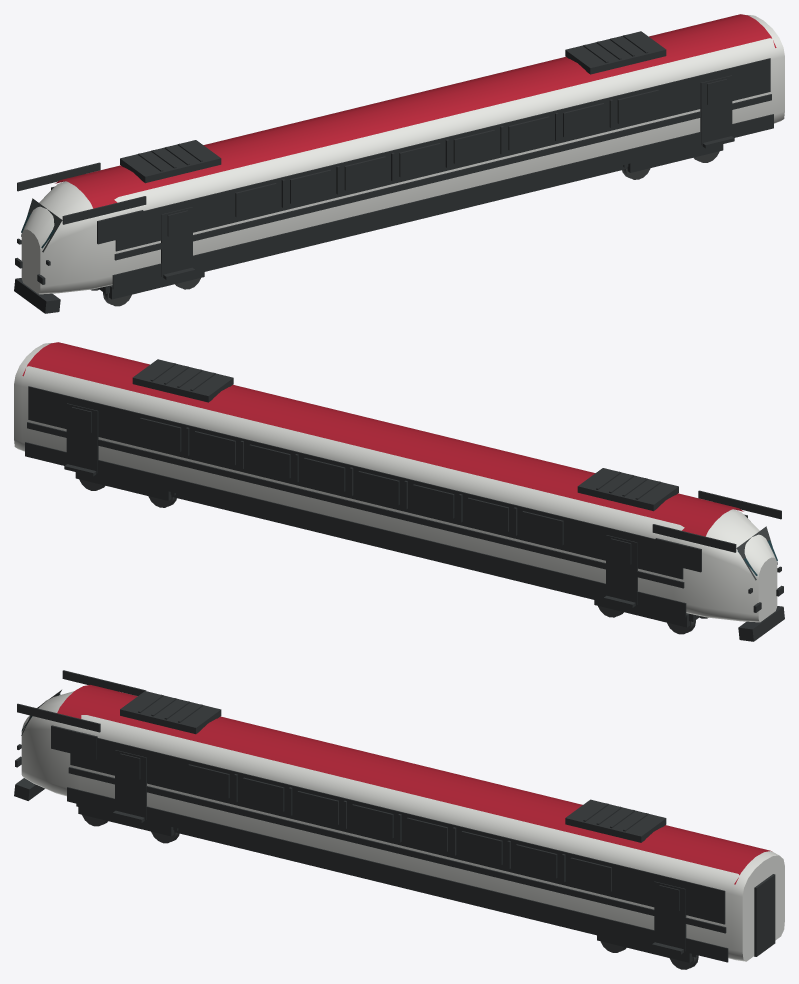
Rendered from railjet-classic-driving-trailer.glb.
3 renders of one model, top to bottom at view 1: azimuth 30°, elevation 25°; view 2: azimuth 150°, elevation 25°; view 3: azimuth 330°, elevation 25°, orthographic.
Visible parts, largest first — view 1: driving_trailer_lofted_body, driving_trailer_red_roof, driving_trailer_window_band_-1, driving_trailer_lower_skirt_-1, driving_trailer_red_belt_-1, driving_trailer_hvac_1, driving_trailer_hvac_0, driving_trailer_underframe_spine, driving_trailer_door_-1_1, driving_trailer_door_-1_0, driving_trailer_side_cab_window_-1, driving_trailer_window_-1_4 (+12 smaller); view 2: driving_trailer_lofted_body, driving_trailer_red_roof, driving_trailer_window_band_1, driving_trailer_lower_skirt_1, driving_trailer_red_belt_1, driving_trailer_hvac_1, driving_trailer_hvac_0, driving_trailer_underframe_spine, driving_trailer_door_1_1, driving_trailer_door_1_0, driving_trailer_bogie_a, driving_trailer_bogie_b (+12 smaller); view 3: driving_trailer_lofted_body, driving_trailer_red_roof, driving_trailer_window_band_-1, driving_trailer_lower_skirt_-1, driving_trailer_red_belt_-1, driving_trailer_hvac_1, driving_trailer_hvac_0, driving_trailer_underframe_spine, driving_trailer_door_-1_1, gangway_0.003, driving_trailer_door_-1_0, driving_trailer_side_cab_window_-1 (+12 smaller).
Part boxes in pixels (<box>): driving_trailer_lofted_body: <box>21,15,784,294</box>; driving_trailer_red_roof: <box>55,14,776,208</box>; driving_trailer_window_band_-1: <box>115,58,770,251</box>; driving_trailer_lower_skirt_-1: <box>112,114,773,289</box>; driving_trailer_red_belt_-1: <box>114,94,771,260</box>; driving_trailer_hvac_1: <box>565,31,666,74</box>; driving_trailer_hvac_0: <box>120,140,221,183</box>; driving_trailer_underframe_spine: <box>204,165,627,271</box>; driving_trailer_door_-1_1: <box>700,75,732,145</box>; driving_trailer_door_-1_0: <box>161,207,192,276</box>; driving_trailer_side_cab_window_-1: <box>97,210,143,244</box>; driving_trailer_window_-1_4: <box>453,130,495,163</box>; driving_trailer_lofted_body: <box>14,343,777,622</box>; driving_trailer_red_roof: <box>22,342,743,536</box>; driving_trailer_window_band_1: <box>28,386,683,579</box>; driving_trailer_lower_skirt_1: <box>25,442,686,617</box>; driving_trailer_red_belt_1: <box>27,422,684,588</box>; driving_trailer_hvac_1: <box>132,359,233,402</box>; driving_trailer_hvac_0: <box>577,468,678,511</box>; driving_trailer_underframe_spine: <box>171,493,594,599</box>; driving_trailer_door_1_1: <box>66,403,98,473</box>; driving_trailer_door_1_0: <box>606,535,637,604</box>; driving_trailer_bogie_a: <box>594,595,708,634</box>; driving_trailer_bogie_b: <box>75,472,176,507</box>; driving_trailer_lofted_body: <box>21,691,784,961</box>; driving_trailer_red_roof: <box>57,685,771,884</box>; driving_trailer_window_band_-1: <box>70,738,725,924</box>; driving_trailer_lower_skirt_-1: <box>67,787,728,962</box>; driving_trailer_red_belt_-1: <box>68,767,726,933</box>; driving_trailer_hvac_1: <box>565,799,666,842</box>; driving_trailer_hvac_0: <box>120,691,221,734</box>; driving_trailer_underframe_spine: <box>174,828,596,935</box>; driving_trailer_door_-1_1: <box>654,881,686,951</box>; gangway_0.003: <box>754,874,775,956</box>; driving_trailer_door_-1_0: <box>115,750,146,819</box>; driving_trailer_side_cab_window_-1: <box>51,725,97,759</box>.
Size of the model in its own units: 26.65 by 4.32 by 3.35.
